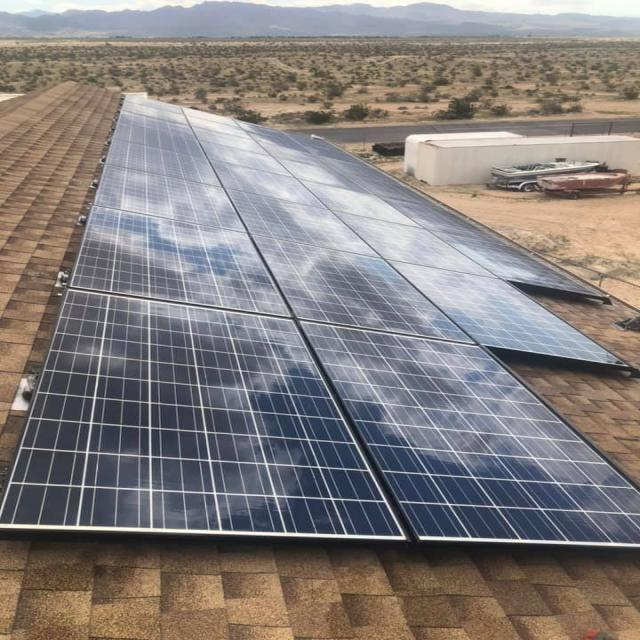clean-solar-panel: (3, 98, 638, 546)
